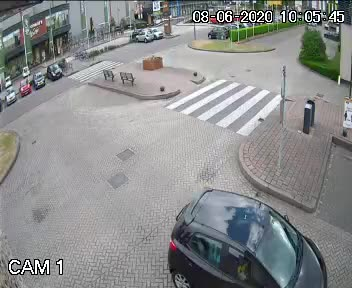car: (134, 158, 326, 288)
